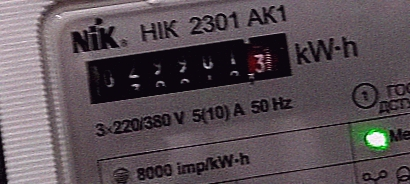0: (198, 46, 215, 73), (99, 67, 118, 90)
1: (223, 43, 239, 68)
2: (123, 60, 142, 81)
3: (251, 51, 267, 74)
9: (173, 51, 190, 75), (149, 55, 164, 79)
screen: (70, 21, 304, 116)
